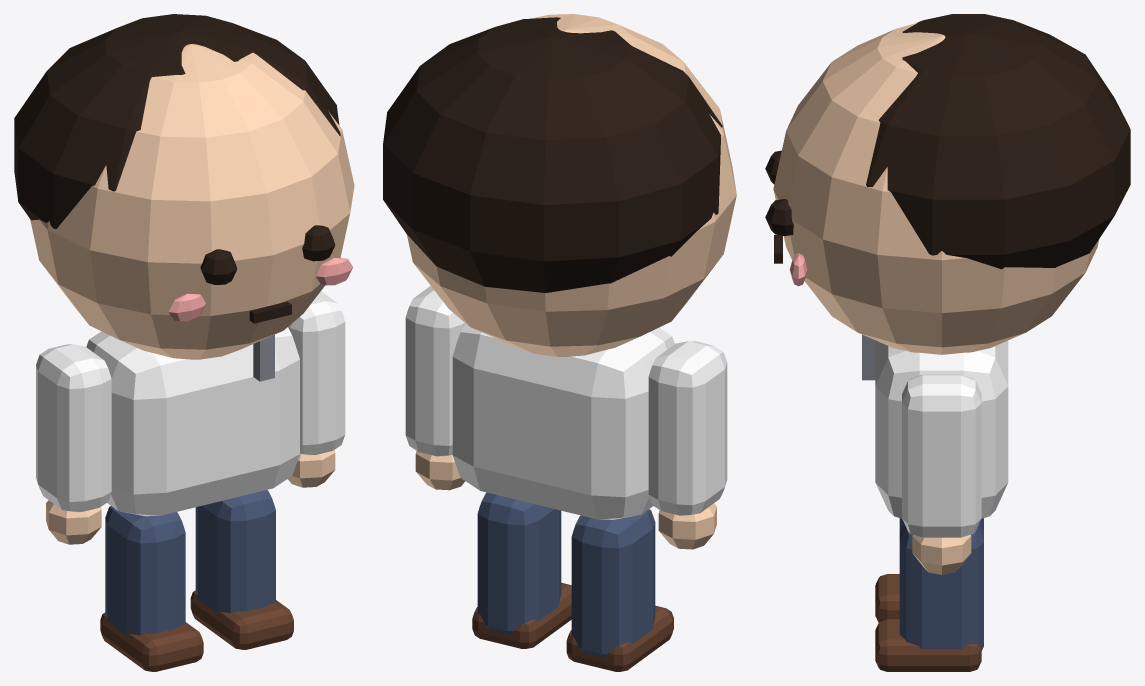
Rendered from kar_penjaga_klinik.fbx.
3 renders of one model, left to right at view 1: azimuth 30°, elevation 25°; view 2: azimuth 150°, elevation 25°; view 3: azimuth 270°, elevation 25°, orthographic. The views are drawn at different scales.
Parts seen in each view (by area): view 1: kar_penjaga_klinik; view 2: kar_penjaga_klinik; view 3: kar_penjaga_klinik.
Boxes of the visible parts, bbox=[...] form: kar_penjaga_klinik: bbox=[14, 14, 354, 671]; kar_penjaga_klinik: bbox=[383, 14, 736, 671]; kar_penjaga_klinik: bbox=[765, 14, 1130, 671].
Size of the model in its own units: 76 by 151 by 82.44.
1 material, 1 textured.
